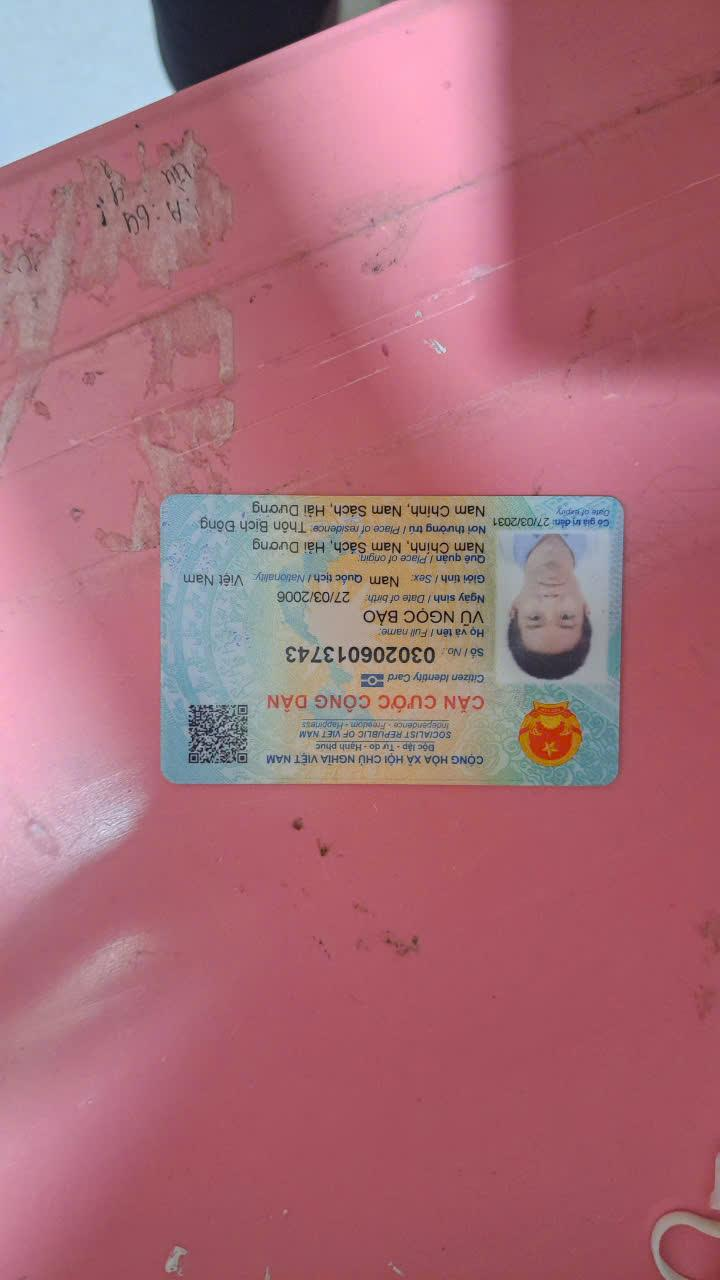cccd: (154, 489, 628, 795)
